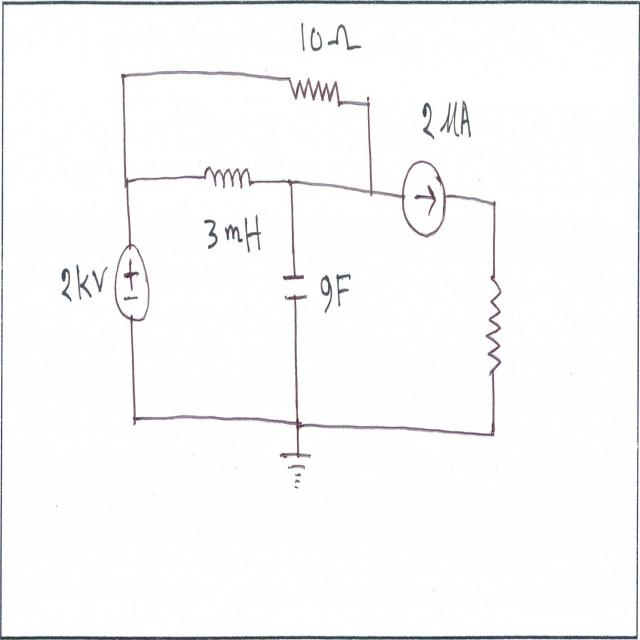capacitor: (280, 266, 309, 308)
current_source: (399, 156, 449, 242)
ground: (278, 439, 316, 494)
inductor: (200, 158, 256, 197)
resistor: (286, 71, 346, 116), (485, 267, 505, 386)
voltage_source: (110, 241, 154, 333)
